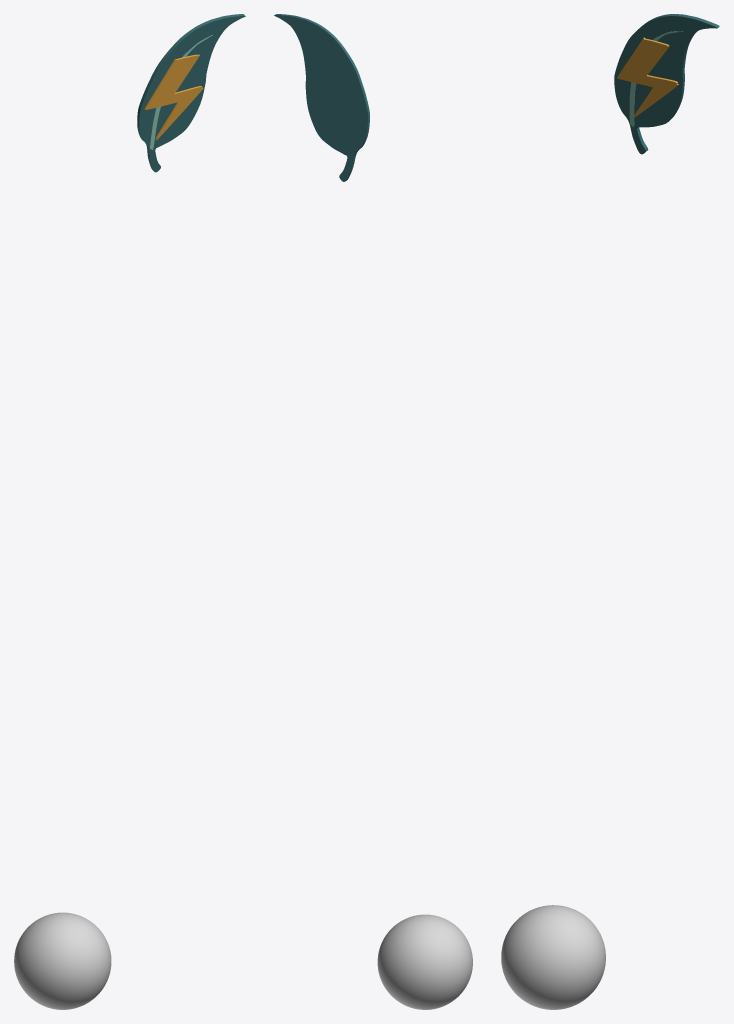
Rendered from orb_s.glb.
3 renders of one model, left to right at view 1: azimuth 30°, elevation 25°; view 2: azimuth 150°, elevation 25°; view 3: azimuth 330°, elevation 25°, orthographic. The views are drawn at different scales.
Parts seen in each view (by area): view 1: orb_s, path182, path186; view 2: orb_s, path182; view 3: orb_s, path182, path186.
Boxes of the visible parts, left/top/right/bottom form: orb_s: left=14, top=912, right=111, bottom=1009; path182: left=137, top=14, right=245, bottom=172; path186: left=144, top=54, right=203, bottom=139; orb_s: left=377, top=914, right=472, bottom=1009; path182: left=274, top=14, right=369, bottom=181; orb_s: left=501, top=905, right=605, bottom=1009; path182: left=614, top=14, right=719, bottom=154; path186: left=617, top=37, right=678, bottom=117.
Size of the model in its own units: 1.23 by 5.38 by 0.4931.
